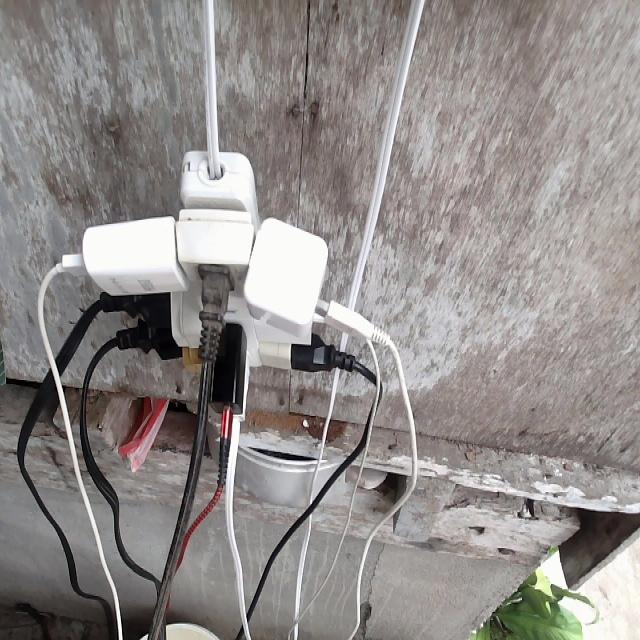-: (59, 147, 330, 429)
